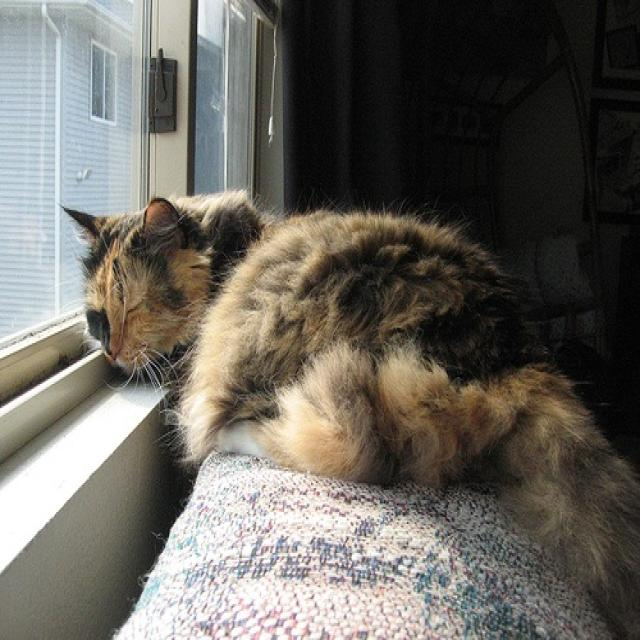cat: (61, 191, 639, 613)
